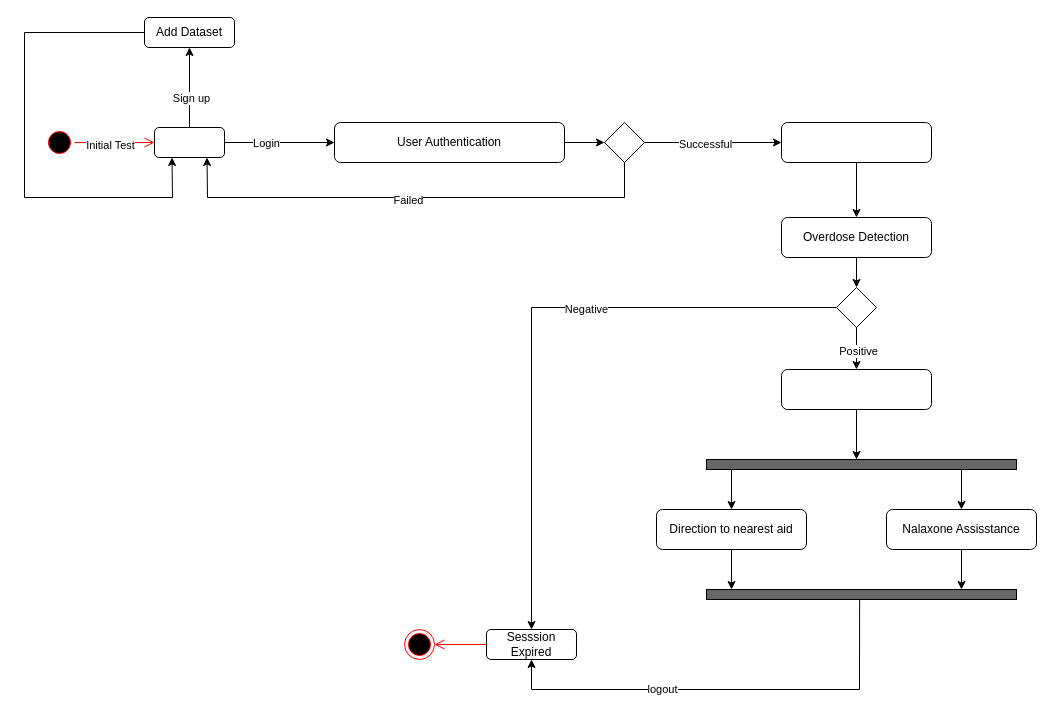
This 1054x715 diagram has some shape labels left out. Here are the shapes that lost their labels. From the top down, the centre of each, then its label:
At [189,142]: "Idle".
At [856,142]: "Risk Assessment".
At [856,389]: "Alert Emergency Contact".
